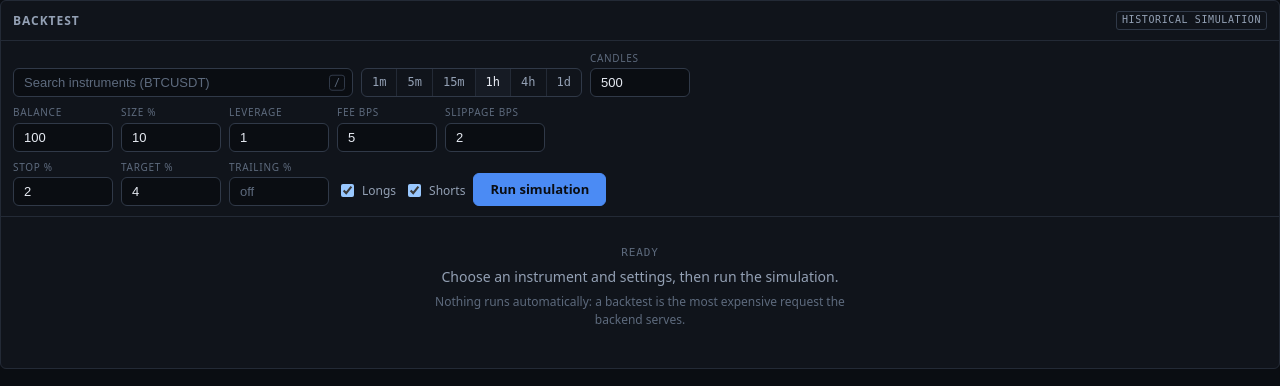
it: BacktestPage › reports a non-completed status instead of empty panels
Click the button "Run simulation": (540, 190) [473, 173, 606, 206]
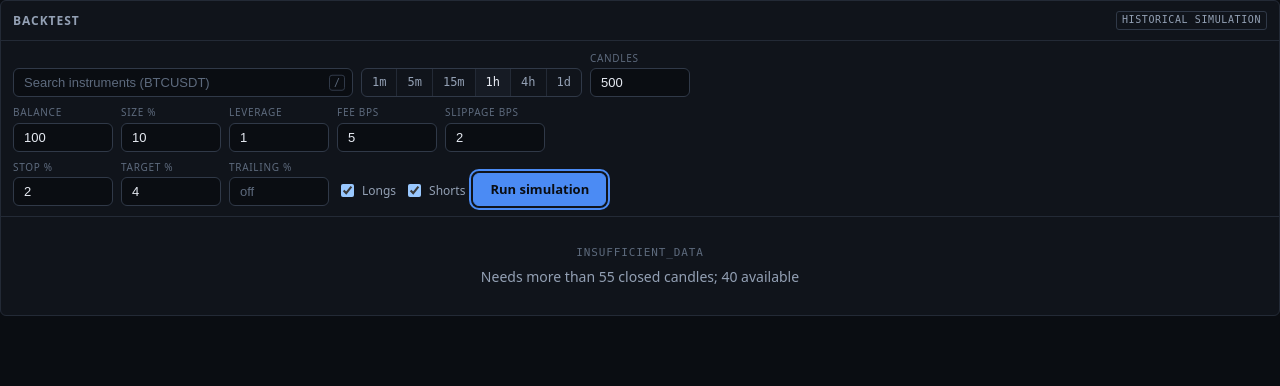
Result: the text "INSUFFICIENT_DATA" is shown at [576, 246, 704, 259]
Result: the text "Needs more than 55 closed candles; 40 available" is shown at [481, 267, 799, 286]
